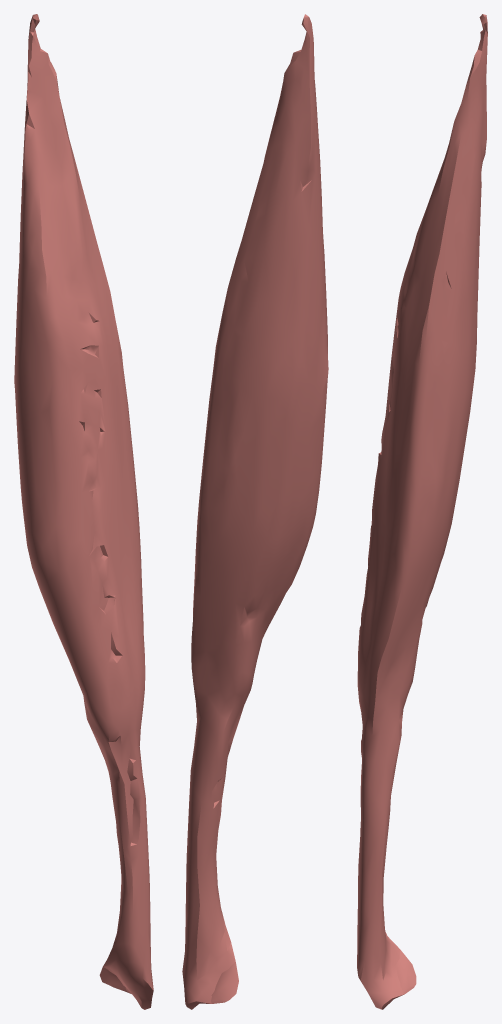
Rendered from fma22459_mm1677m.glb.
The picture shows the model from 3 angles, left to right: view 1: azimuth 30°, elevation 25°; view 2: azimuth 210°, elevation 25°; view 3: azimuth 270°, elevation 25°; orthographic projection. The views are drawn at different scales.
Parts seen in each view (by area): view 1: FMA22459_MM1677M; view 2: FMA22459_MM1677M; view 3: FMA22459_MM1677M.
Part boxes in pixels (x1,y1,x2,y2): FMA22459_MM1677M: [14, 14, 153, 1009]; FMA22459_MM1677M: [182, 14, 328, 1009]; FMA22459_MM1677M: [357, 14, 487, 1009].
Bounding box in the file's own units: 0.0476 × 0.415 × 0.0508.
